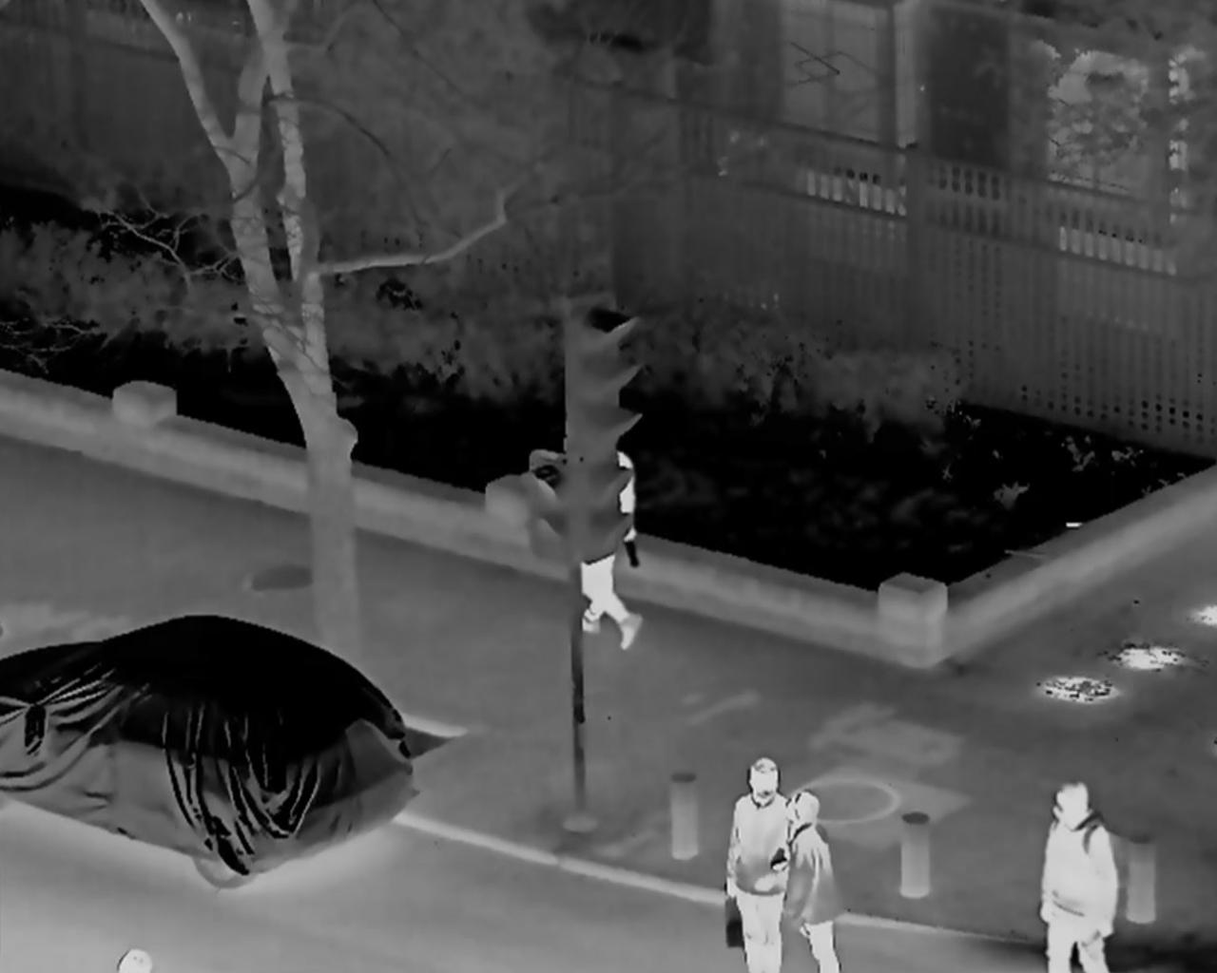person: (562, 437, 647, 657), (1035, 784, 1121, 973), (728, 755, 792, 973), (783, 785, 839, 973)
